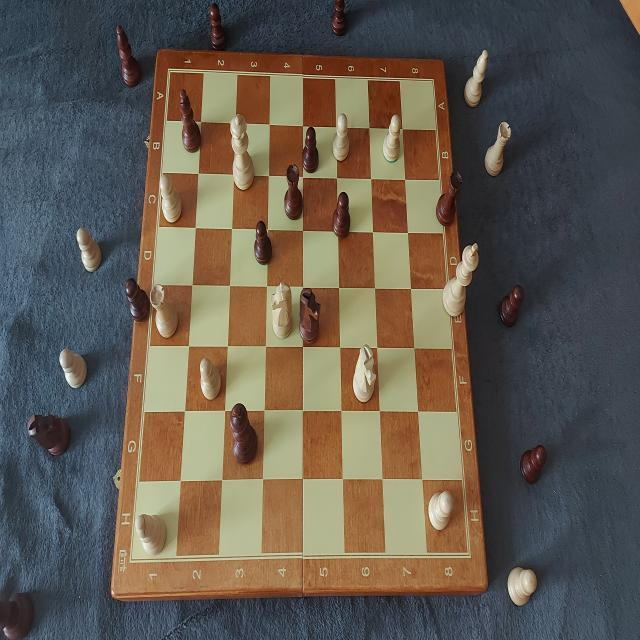chess-table-corners: (458, 538, 477, 570), (124, 548, 140, 576), (424, 68, 439, 95), (160, 61, 176, 84)
